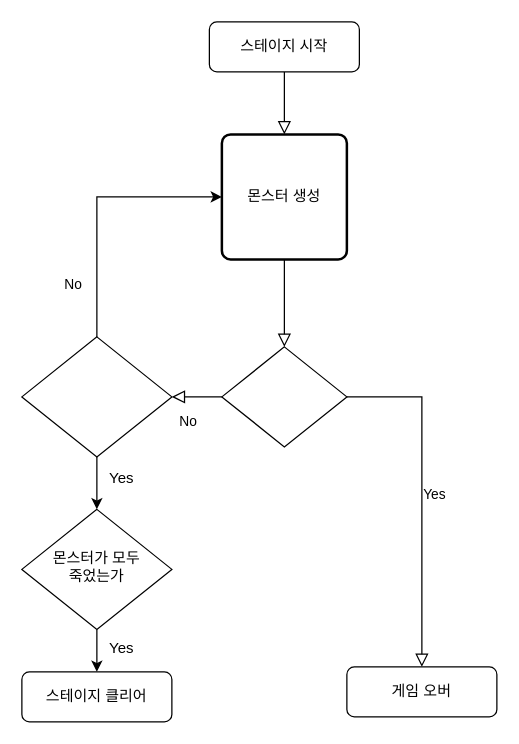
Some shapes in this 519 by 744 pixel diagram are drawn without their labels. The centre of each missing label's shape, as x and y in pixels:
"기지가 파괴됐는가?" belongs at point 284,396.
"몬스터가 모두 생성되었는가" belongs at point 96,396.
